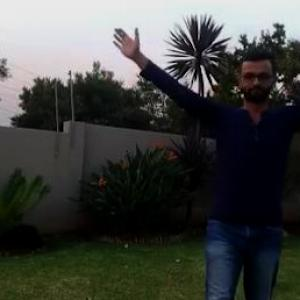takeoff: (128, 32, 299, 299)
